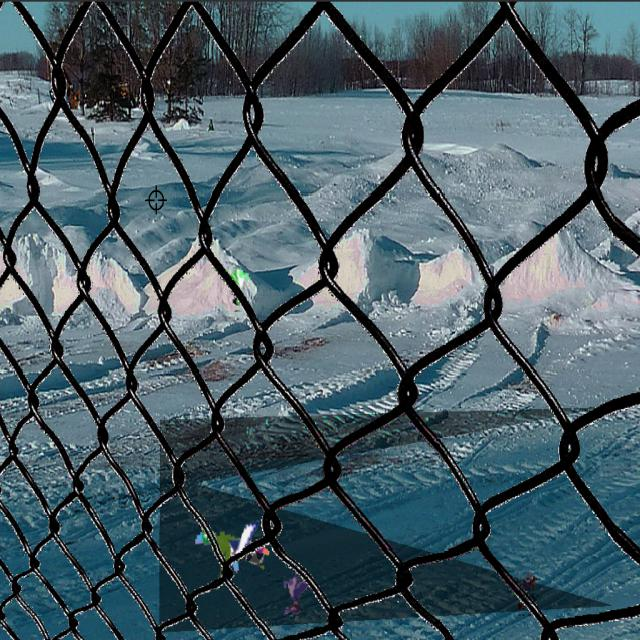duck: (194, 516, 238, 573), (243, 528, 275, 570)
falling_duck: (281, 567, 314, 620), (228, 264, 251, 312)
